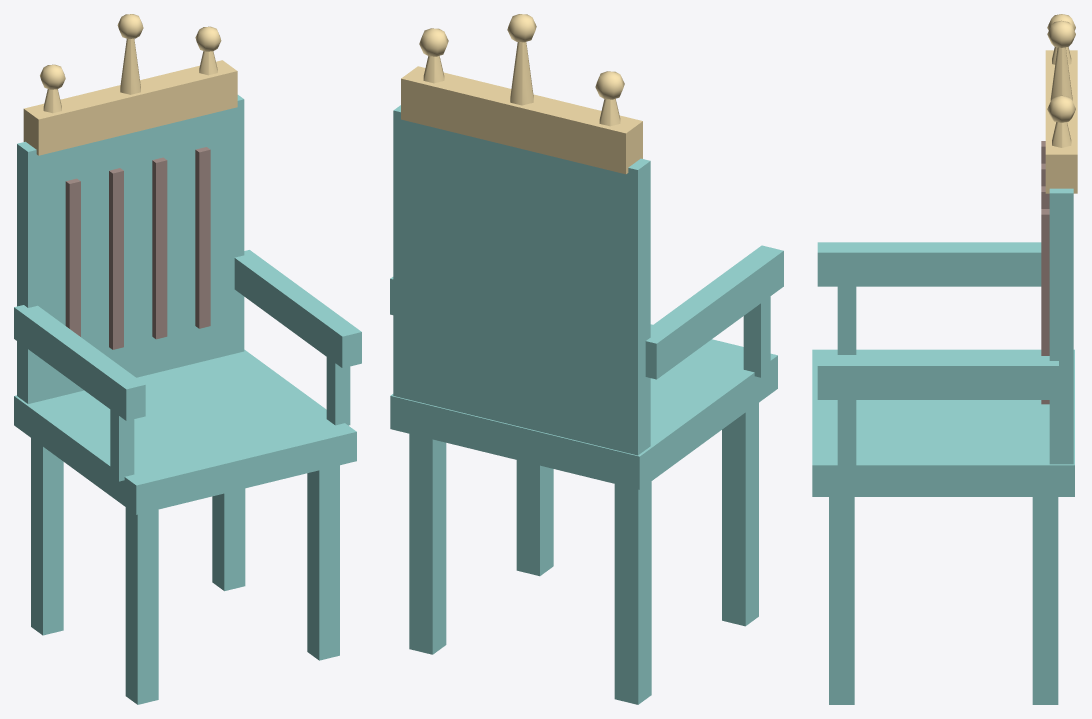
Rendered from 20_trono_silla_plastica.glb.
The picture shows the model from 3 angles, left to right: view 1: azimuth 30°, elevation 25°; view 2: azimuth 150°, elevation 25°; view 3: azimuth 270°, elevation 25°; orthographic projection. The views are drawn at different scales.
Visible parts, largest first — view 1: body (×3); view 2: body (×2); view 3: body (×3).
Part boxes in pixels (bbox=[...]): body (×3): bbox=[14, 14, 361, 704]; body (×2): bbox=[390, 14, 783, 704]; body (×3): bbox=[812, 14, 1077, 704].
Size of the model in its own units: 0.545 by 1.3 by 0.495.
